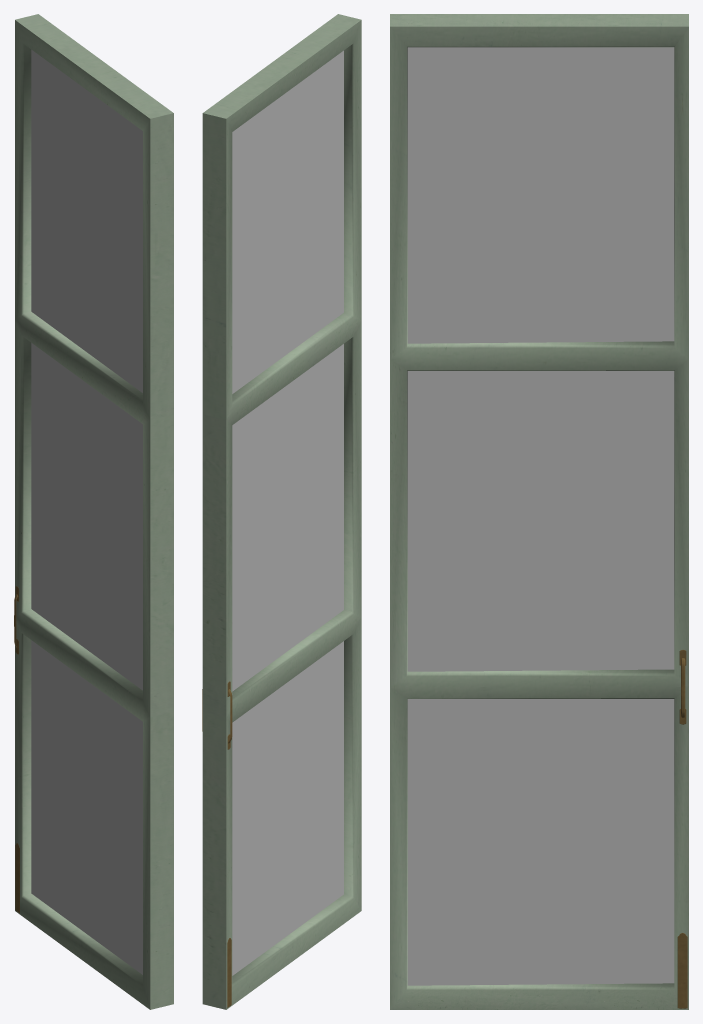
File: SM_WW19_Door_1.fbx
3 renders of one model, left to right at view 1: azimuth 30°, elevation 25°; view 2: azimuth 150°, elevation 25°; view 3: azimuth 270°, elevation 25°, orthographic. The views are drawn at different scales.
Parts seen in each view (by area): view 1: SM_WW19_Door_1; view 2: SM_WW19_Door_1; view 3: SM_WW19_Door_1.
Boxes of the visible parts, <box> form: SM_WW19_Door_1: <box>14,14,173,1009</box>; SM_WW19_Door_1: <box>202,14,361,1009</box>; SM_WW19_Door_1: <box>390,14,688,1009</box>.
Bounding box in the file's own units: 6.18 × 50.58 × 184.
Materials: 3 (2 with a texture image).
